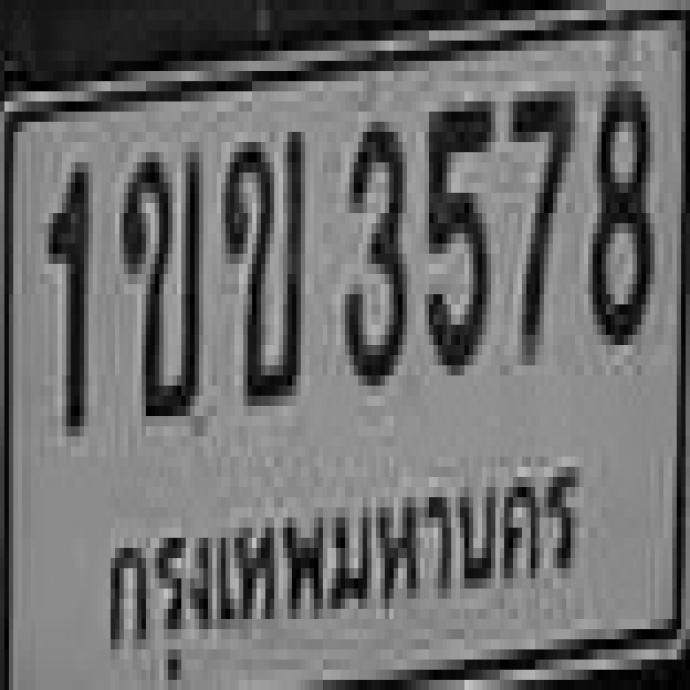1: (45, 153, 86, 426)
3: (340, 113, 403, 376)
5: (423, 91, 488, 365)
7: (506, 81, 569, 353)
8: (585, 74, 647, 335)
A02: (220, 127, 301, 396), (119, 141, 197, 415)
BKK: (97, 448, 590, 642)
